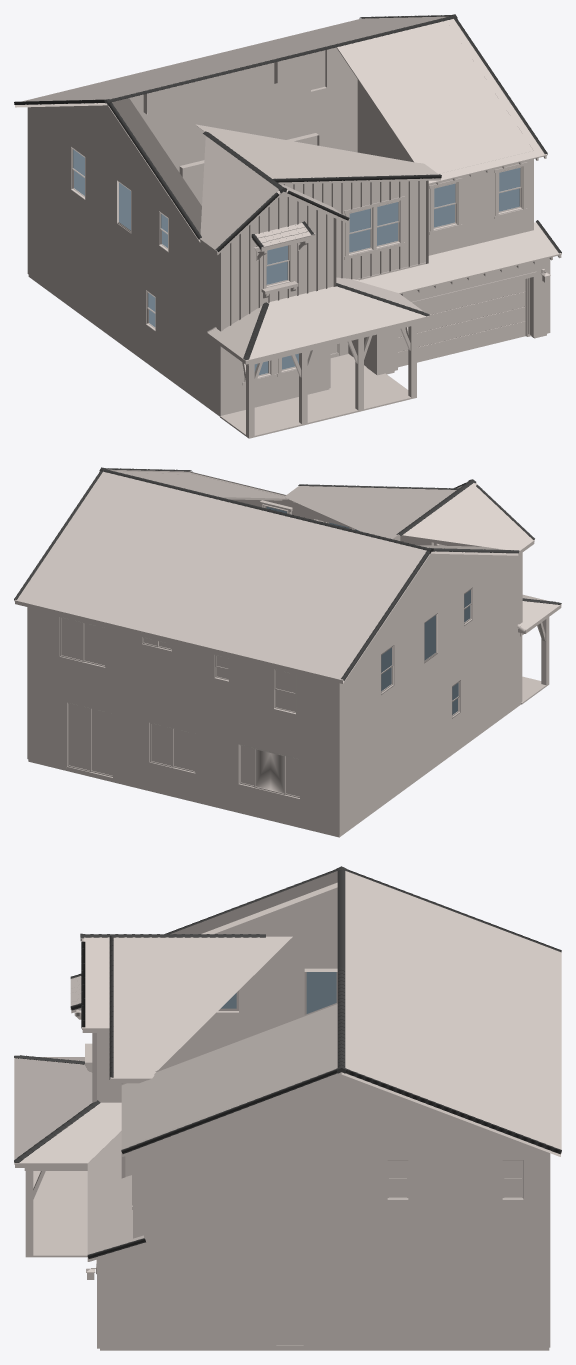
Rendered from KBH_Elevation_2597_1.glb.
3 renders of one model, top to bottom at view 1: azimuth 30°, elevation 25°; view 2: azimuth 150°, elevation 25°; view 3: azimuth 270°, elevation 25°, orthographic. The views are drawn at different scales.
Parts seen in each view (by area): view 1: Rectangle006, Line035, Line053, back, !garage 4 flat panels_C, Line071, Line005, $$_FLAT_CAP_067, Line075, !STD_SH_OC_VRAY_DAY024, Line032, Line003 (+19 smaller); view 2: Rectangle006, back, Line075, Line077, $$_FLAT_CAP_067, !STD_SH_OC_VRAY_DAY022, !STD_SH_OC_VRAY_DAY023, Line035, Line053, !STD_SH_OC_VRAY_DAY020, !STD_SH_OC_VRAY_DAY021, Rectangle042 (+6 smaller); view 3: Rectangle006, back, Line075, Line035, $$_FLAT_CAP_067, Line071, Line032, Line053, Line073, Line074, Line001, Line078 (+7 smaller).
Part boxes in pixels (left/top/right/bottom): Rectangle006: left=27, top=47, right=533, bottom=414; Line035: left=336, top=19, right=547, bottom=184; Line053: left=15, top=98, right=552, bottom=325; back: left=22, top=16, right=448, bottom=101; !garage 4 flat panels_C: left=398, top=278, right=527, bottom=367; Line071: left=245, top=286, right=429, bottom=360; Line005: left=223, top=194, right=333, bottom=328; $$_FLAT_CAP_067: left=14, top=14, right=561, bottom=360; Line075: left=195, top=124, right=438, bottom=178; !STD_SH_OC_VRAY_DAY024: left=73, top=149, right=520, bottom=375; Line032: left=220, top=354, right=416, bottom=438; Line003: left=285, top=181, right=425, bottom=279; Rectangle006: left=27, top=473, right=522, bottom=835; back: left=15, top=471, right=426, bottom=680; Line075: left=284, top=486, right=456, bottom=539; Line077: left=402, top=483, right=534, bottom=550; $$_FLAT_CAP_067: left=14, top=467, right=561, bottom=680; !STD_SH_OC_VRAY_DAY022: left=66, top=702, right=113, bottom=778; !STD_SH_OC_VRAY_DAY023: left=238, top=743, right=300, bottom=799; Line035: left=108, top=469, right=288, bottom=499; Line053: left=14, top=498, right=518, bottom=683; !STD_SH_OC_VRAY_DAY020: left=59, top=616, right=105, bottom=668; !STD_SH_OC_VRAY_DAY021: left=149, top=722, right=195, bottom=773; Rectangle042: left=28, top=702, right=521, bottom=837; Rectangle006: left=121, top=887, right=550, bottom=1347; back: left=345, top=871, right=561, bottom=1149; Line075: left=110, top=936, right=292, bottom=1078; Line035: left=121, top=1002, right=337, bottom=1153; $$_FLAT_CAP_067: left=14, top=866, right=561, bottom=1258; Line071: left=14, top=1058, right=92, bottom=1162; Line032: left=25, top=1171, right=87, bottom=1257; Line053: left=92, top=871, right=561, bottom=1178; Line073: left=87, top=1131, right=143, bottom=1254; Line074: left=14, top=1102, right=121, bottom=1163; Line001: left=97, top=1252, right=121, bottom=1348; Line078: left=82, top=937, right=109, bottom=1028.
Size of the model in its own units: 12.9 by 8.61 by 14.81.
